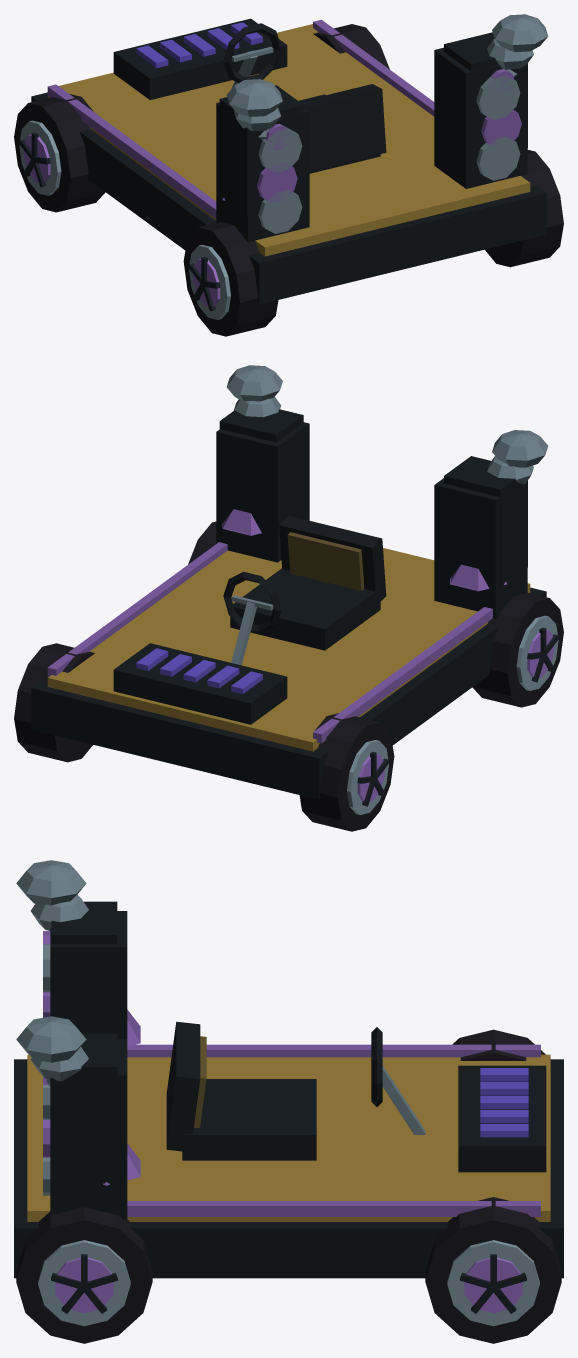
File: kart.glb
3 views of the same model, one above another, from view 1: azimuth 30°, elevation 25°; view 2: azimuth 150°, elevation 25°; view 3: azimuth 270°, elevation 25° (orthographic). The views are drawn at different scales.
Parts seen in each view (by area): view 1: identity-stage-stage-platform-and-pa-towers, identity-stage-driver-cockpit, identity-stage-motif-speakers, wheel-rear-left, wheel-front-left, identity-stage-motif-smoke, wheel-rear-right, wheel-front-right; view 2: identity-stage-stage-platform-and-pa-towers, identity-stage-driver-cockpit, wheel-front-left, wheel-rear-left, identity-stage-motif-speakers, identity-stage-motif-smoke, wheel-front-right, identity-stage-motif-gems; view 3: identity-stage-stage-platform-and-pa-towers, identity-stage-driver-cockpit, wheel-front-right, wheel-rear-right, identity-stage-motif-speakers, identity-stage-motif-smoke, wheel-front-left, identity-stage-motif-gems.
Boxes of the visible parts, box(x1,y1,x2,y2) form: identity-stage-stage-platform-and-pa-towers: box(31, 18, 546, 304); identity-stage-driver-cockpit: box(223, 23, 386, 173); identity-stage-motif-speakers: box(219, 32, 527, 216); wheel-rear-left: box(183, 222, 278, 336); wheel-front-left: box(14, 94, 105, 212); identity-stage-motif-smoke: box(226, 14, 548, 139); wheel-rear-right: box(485, 150, 563, 267); wheel-front-right: box(313, 24, 389, 69); identity-stage-stage-platform-and-pa-towers: box(31, 422, 546, 799); identity-stage-driver-cockpit: box(223, 516, 386, 665); wheel-front-left: box(299, 713, 394, 831); wheel-rear-left: box(472, 592, 563, 707); identity-stage-motif-speakers: box(219, 409, 527, 587); identity-stage-motif-smoke: box(226, 365, 548, 484); wheel-front-right: box(14, 643, 94, 762); identity-stage-motif-gems: box(222, 509, 506, 591); identity-stage-stage-platform-and-pa-towers: box(14, 911, 563, 1278); identity-stage-driver-cockpit: box(166, 1021, 425, 1160); wheel-front-right: box(425, 1197, 561, 1343); wheel-rear-right: box(16, 1207, 152, 1343); identity-stage-motif-speakers: box(43, 901, 117, 1184); identity-stage-motif-smoke: box(16, 860, 88, 1086); wheel-front-left: box(452, 1029, 545, 1060); identity-stage-motif-gems: box(103, 1009, 140, 1185).
Size of the model in its own units: 2.16 by 1.53 by 2.5.
